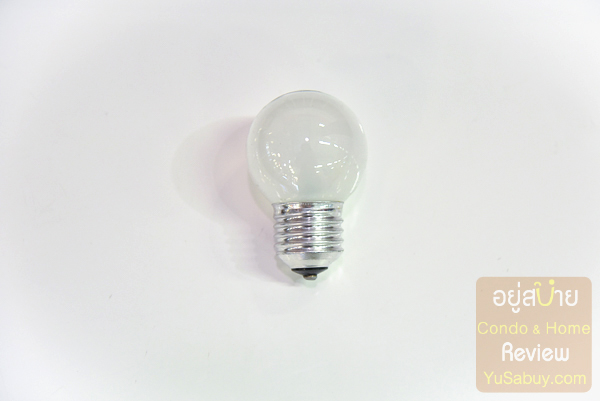Light_bulb: (244, 85, 371, 288)
